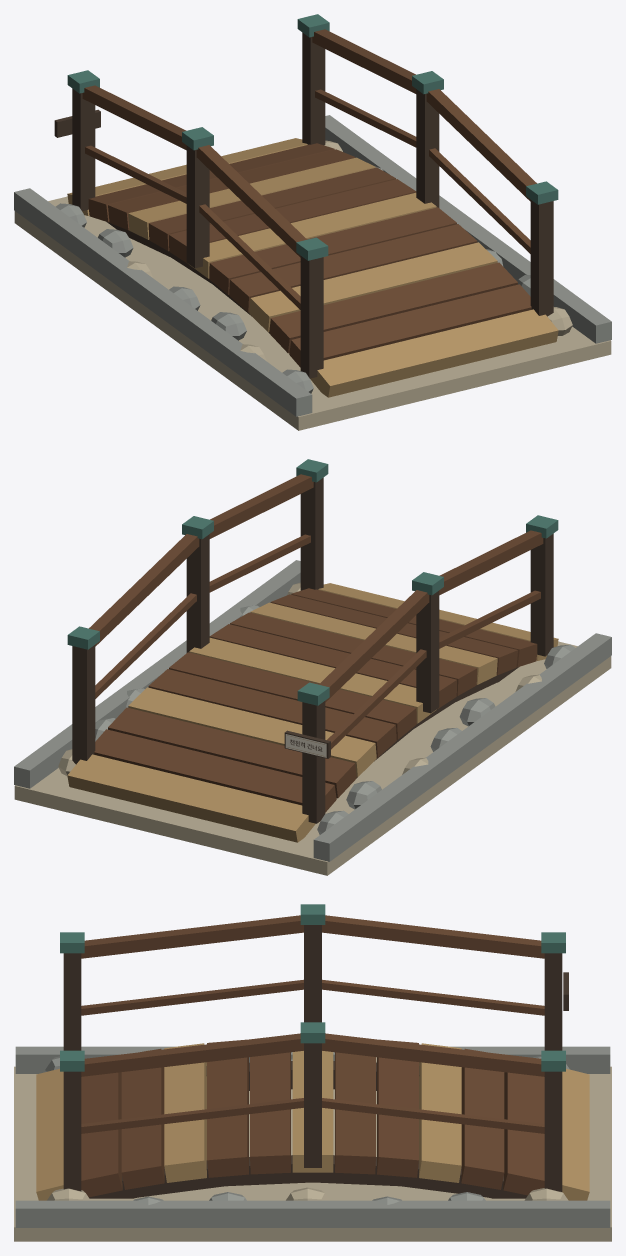
File: W02_Timber_Garden_Bridge.fbx
3 renders of one model, top to bottom at view 1: azimuth 30°, elevation 25°; view 2: azimuth 150°, elevation 25°; view 3: azimuth 270°, elevation 25°, orthographic. The views are drawn at different scales.
Visible parts, largest first — view 1: Bridge_Deck, Gravel_Channel, Bridge_Rails; view 2: Bridge_Deck, Gravel_Channel, Bridge_Rails, Front_Label; view 3: Bridge_Deck, Bridge_Rails, Gravel_Channel.
Boxes of the visible parts, <box> form: Bridge_Deck: <box>67,138,558,397</box>; Gravel_Channel: <box>14,115,611,430</box>; Bridge_Rails: <box>67,14,558,378</box>; Bridge_Deck: <box>67,583,558,842</box>; Gravel_Channel: <box>14,560,611,875</box>; Bridge_Rails: <box>67,459,558,823</box>; Front_Label: <box>284,730,330,758</box>; Bridge_Deck: <box>36,1039,589,1200</box>; Bridge_Rails: <box>60,904,565,1191</box>; Gravel_Channel: <box>14,1046,611,1241</box>.
Bounding box in the file's own units: 2.17 × 1.23 × 3.38.
7 materials, 1 textured.
